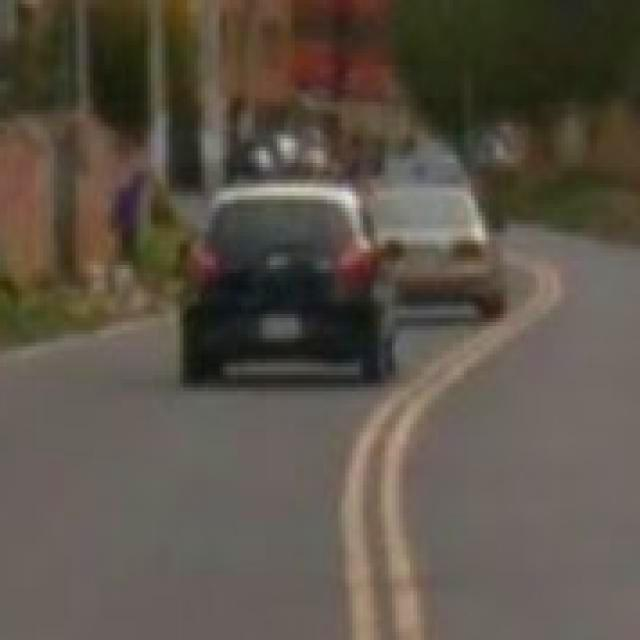Car: (177, 175, 352, 398), (373, 170, 500, 316)
